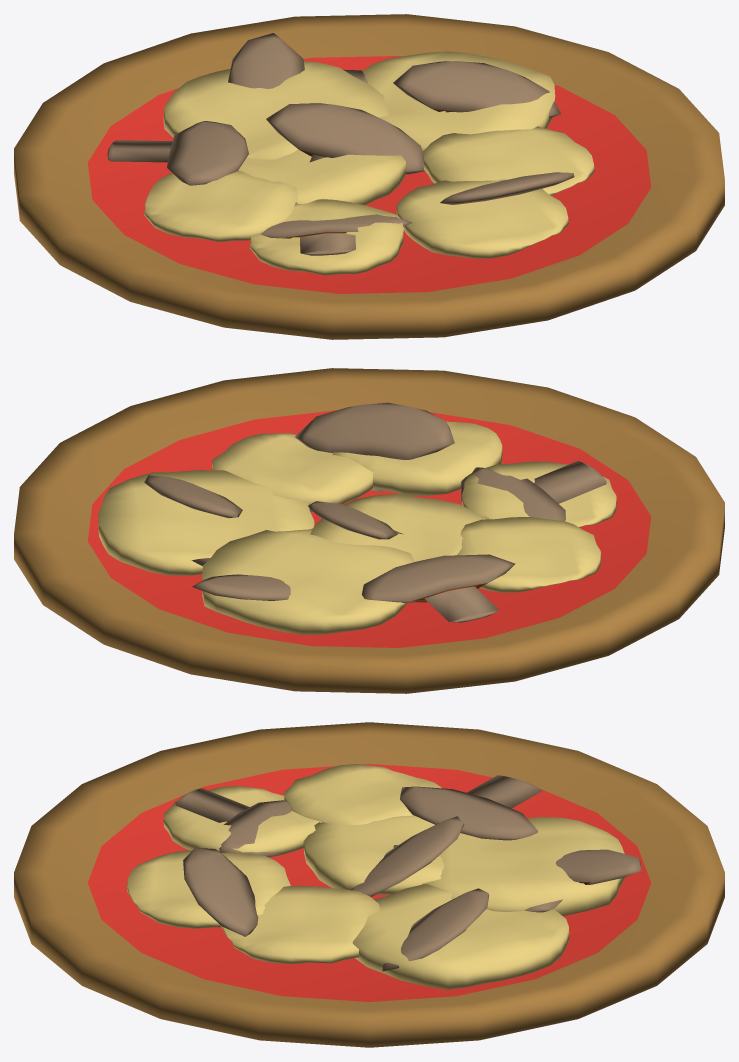
File: CookedPizza(Tomato Cheese and Mushrooms).glb
3 views of the same model, one above another, from view 1: azimuth 30°, elevation 25°; view 2: azimuth 150°, elevation 25°; view 3: azimuth 270°, elevation 25° (orthographic).
Parts seen in each view (by area): view 1: Icosphere.028; view 2: Icosphere.028; view 3: Icosphere.028.
Boxes of the visible parts, x1,y1,x2,y2 form: Icosphere.028: (14,14,724,339); Icosphere.028: (14,368,724,693); Icosphere.028: (14,722,724,1047).
Bounding box in the file's own units: 0.8833 × 0.0807 × 0.8833.
